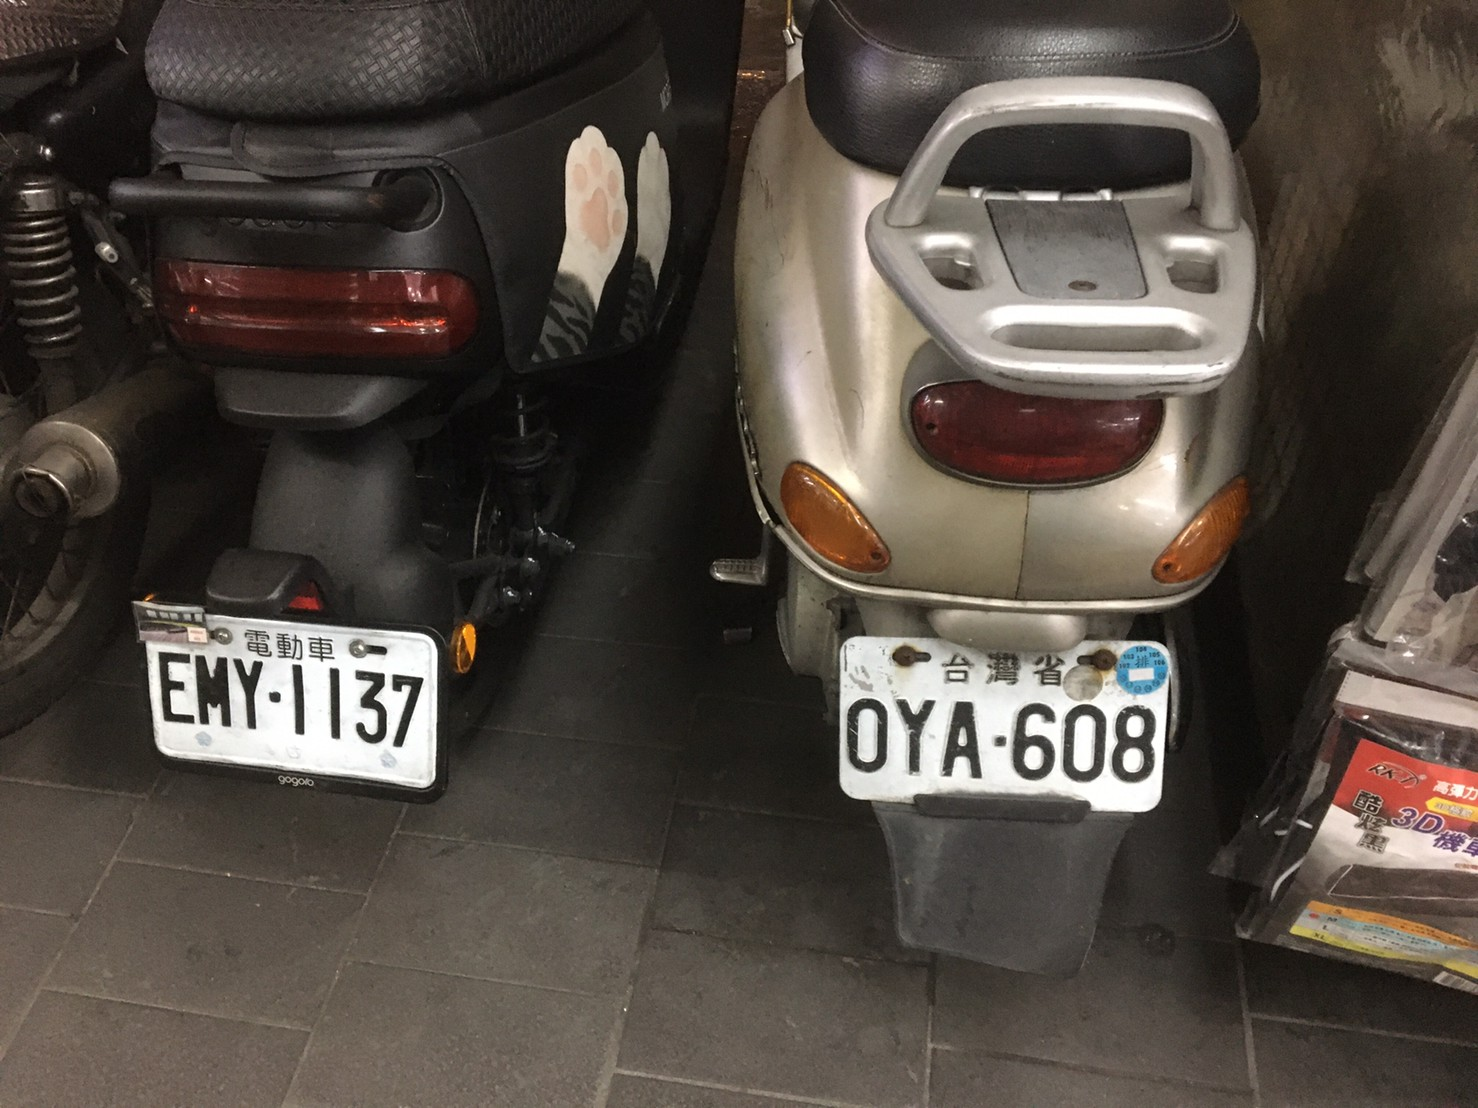LP: (844, 637, 1167, 805), (149, 613, 440, 781)
